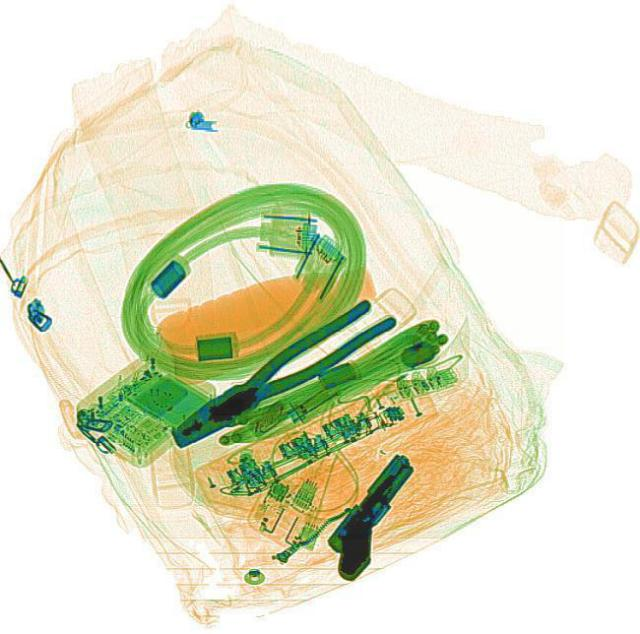Gun: (308, 450, 438, 581)
Pliers: (158, 290, 400, 454)
